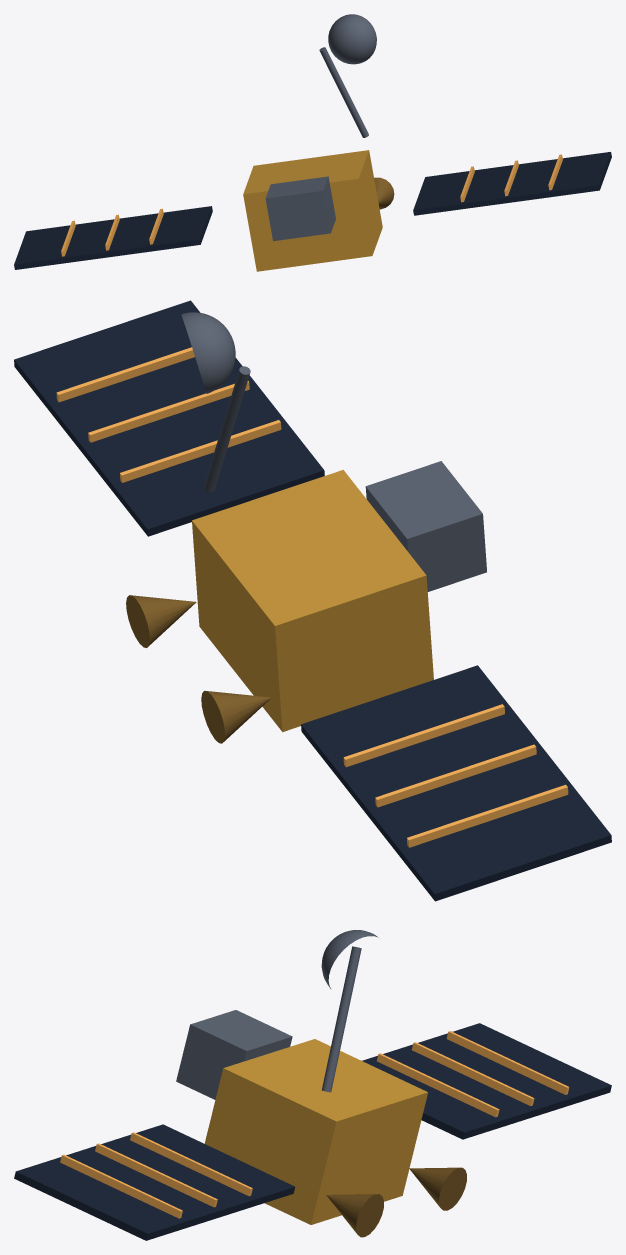
File: noaa-20.glb
3 renders of one model, top to bottom at view 1: azimuth 30°, elevation 25°; view 2: azimuth 150°, elevation 25°; view 3: azimuth 270°, elevation 25°, orthographic. The views are drawn at different scales.
Parts seen in each view (by area): view 1: Bus_MainBody, SolarPanels_Left, SolarPanels_Right, Payload_InstrumentBox, Antenna_Dish, SolarPanels, Antenna_Mast, Thrusters_Nozzle_0.38; view 2: Bus_MainBody, SolarPanels_Left, SolarPanels_Right, SolarPanels, Payload_InstrumentBox, Antenna_Dish, Thrusters_Nozzle_0.38, Thrusters_Nozzle_-0.38, Antenna_Mast; view 3: Bus_MainBody, SolarPanels_Right, SolarPanels_Left, SolarPanels, Payload_InstrumentBox, Thrusters_Nozzle_0.38, Thrusters_Nozzle_-0.38, Antenna_Mast, Antenna_Dish.
Boxes of the visible parts, left/top/right/bottom form: Bus_MainBody: left=243, top=150, right=382, bottom=271; SolarPanels_Left: left=14, top=206, right=212, bottom=269; SolarPanels_Right: left=413, top=152, right=611, bottom=215; Payload_InstrumentBox: left=265, top=176, right=335, bottom=241; Antenna_Dish: left=328, top=14, right=376, bottom=64; SolarPanels: left=61, top=154, right=562, bottom=256; Antenna_Mast: left=319, top=47, right=368, bottom=137; Thrusters_Nozzle_0.38: left=374, top=177, right=394, bottom=209; Bus_MainBody: left=192, top=469, right=433, bottom=732; SolarPanels_Left: left=301, top=665, right=611, bottom=901; SolarPanels_Right: left=14, top=300, right=324, bottom=536; SolarPanels: left=56, top=347, right=568, bottom=847; Payload_InstrumentBox: left=365, top=461, right=486, bottom=591; Antenna_Dish: left=181, top=312, right=235, bottom=393; Thrusters_Nozzle_0.38: left=126, top=595, right=196, bottom=647; Thrusters_Nozzle_-0.38: left=201, top=690, right=271, bottom=743; Antenna_Mast: left=203, top=366, right=250, bottom=492; Bus_MainBody: left=204, top=1039, right=427, bottom=1224; SolarPanels_Right: left=14, top=1124, right=294, bottom=1240; SolarPanels_Left: left=362, top=1023, right=611, bottom=1139; SolarPanels: left=60, top=1031, right=569, bottom=1218; Payload_InstrumentBox: left=176, top=1010, right=292, bottom=1099; Thrusters_Nozzle_0.38: left=326, top=1194, right=383, bottom=1237; Thrusters_Nozzle_-0.38: left=409, top=1167, right=466, bottom=1210; Antenna_Mast: left=322, top=946, right=361, bottom=1092; Antenna_Dish: left=321, top=930, right=378, bottom=989.
Size of the model in its own units: 4.73 by 2.16 by 3.65.
